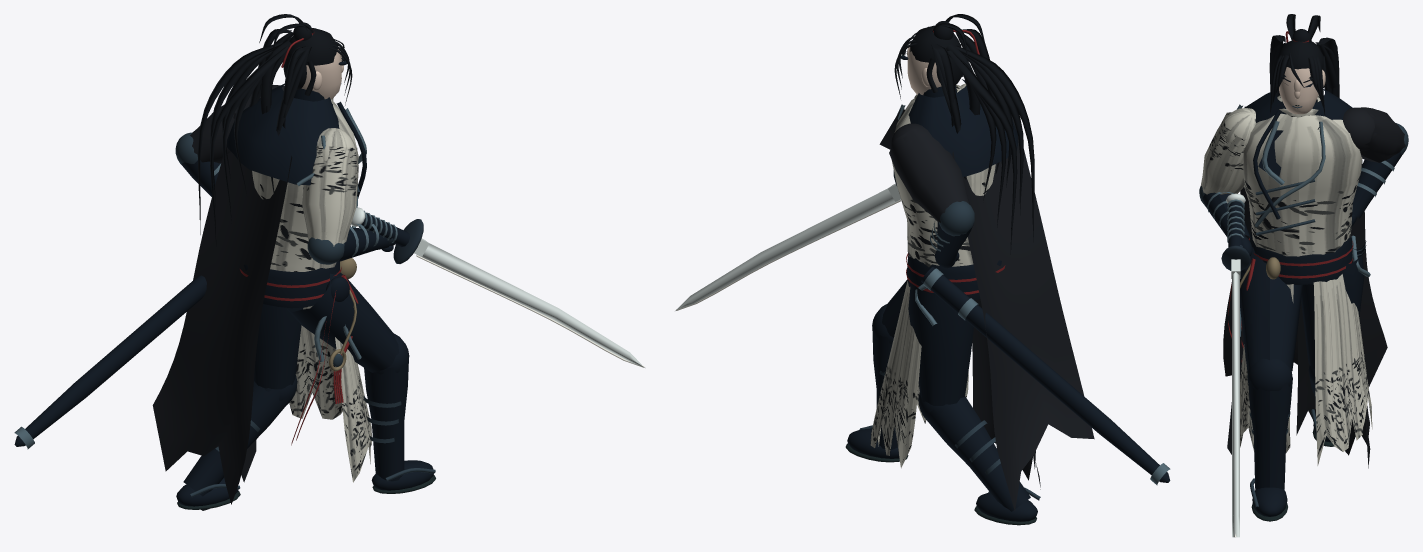
File: hero-reference-blockout.glb
The picture shows the model from 3 angles, left to right: view 1: azimuth 30°, elevation 25°; view 2: azimuth 150°, elevation 25°; view 3: azimuth 270°, elevation 25°; orthographic projection. The views are drawn at different scales.
Visible parts, largest first — view 1: chest, hips, sword_grip, head, right_upper_arm, ponytail, right_thigh, right_shin, left_thigh, left_shin, right_forearm, right_foot (+3 smaller); view 2: chest, hips, ponytail, left_thigh, head, left_upper_arm, left_shin, sword_grip, left_forearm, right_shin, left_foot, right_foot (+1 smaller); view 3: chest, hips, head, right_thigh, right_shin, sword_grip, right_upper_arm, left_upper_arm, left_thigh, left_forearm, right_foot, right_forearm.
Boxes of the visible parts, x1,y1,x2,y2 form: chest: (152, 83, 366, 504); hips: (14, 258, 371, 510); sword_grip: (351, 207, 644, 367); head: (249, 14, 352, 194); right_upper_arm: (302, 128, 358, 246); ponytail: (197, 40, 291, 246); right_thigh: (287, 272, 399, 372); right_shin: (363, 333, 409, 481); left_thigh: (254, 304, 303, 389); left_shin: (183, 375, 297, 496); right_forearm: (307, 223, 390, 264); right_foot: (371, 460, 435, 493); chest: (879, 79, 1094, 510); hips: (870, 253, 1170, 489); ponytail: (946, 43, 1034, 254); left_thigh: (908, 283, 975, 405); head: (894, 14, 999, 179); left_upper_arm: (889, 123, 970, 222); left_shin: (918, 392, 1030, 511); sword_grip: (675, 170, 900, 310); left_forearm: (930, 201, 974, 264); right_shin: (872, 304, 897, 449); left_foot: (974, 487, 1040, 525); right_foot: (845, 425, 908, 462); chest: (1223, 88, 1387, 387); hips: (1227, 231, 1372, 468); head: (1269, 14, 1339, 116); right_thigh: (1240, 247, 1302, 370); right_shin: (1247, 358, 1292, 489); sword_grip: (1221, 193, 1250, 537); right_upper_arm: (1200, 108, 1255, 194); left_upper_arm: (1343, 107, 1405, 162); left_thigh: (1301, 253, 1364, 368); left_forearm: (1352, 123, 1408, 218); right_foot: (1250, 478, 1287, 521); right_forearm: (1199, 186, 1250, 237).
Size of the model in its own units: 2.7 by 2.25 by 0.9256.
Materials: 18 (3 with a texture image).
